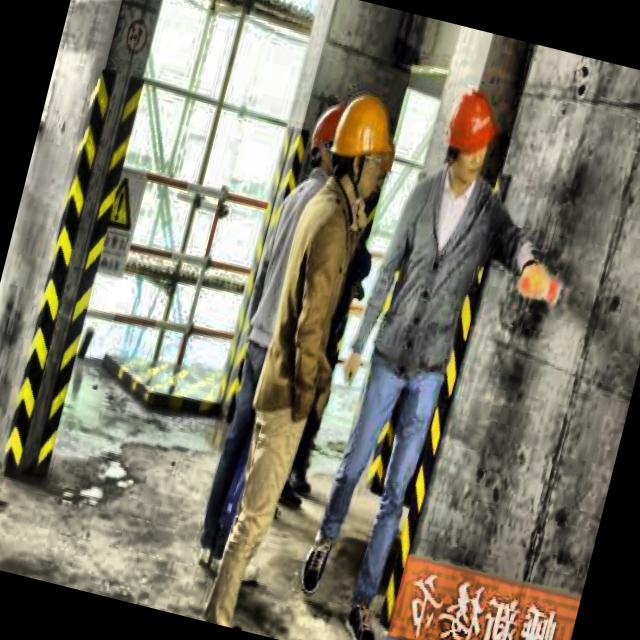helmet: (320, 89, 408, 204), (427, 82, 509, 196), (298, 95, 356, 184)
